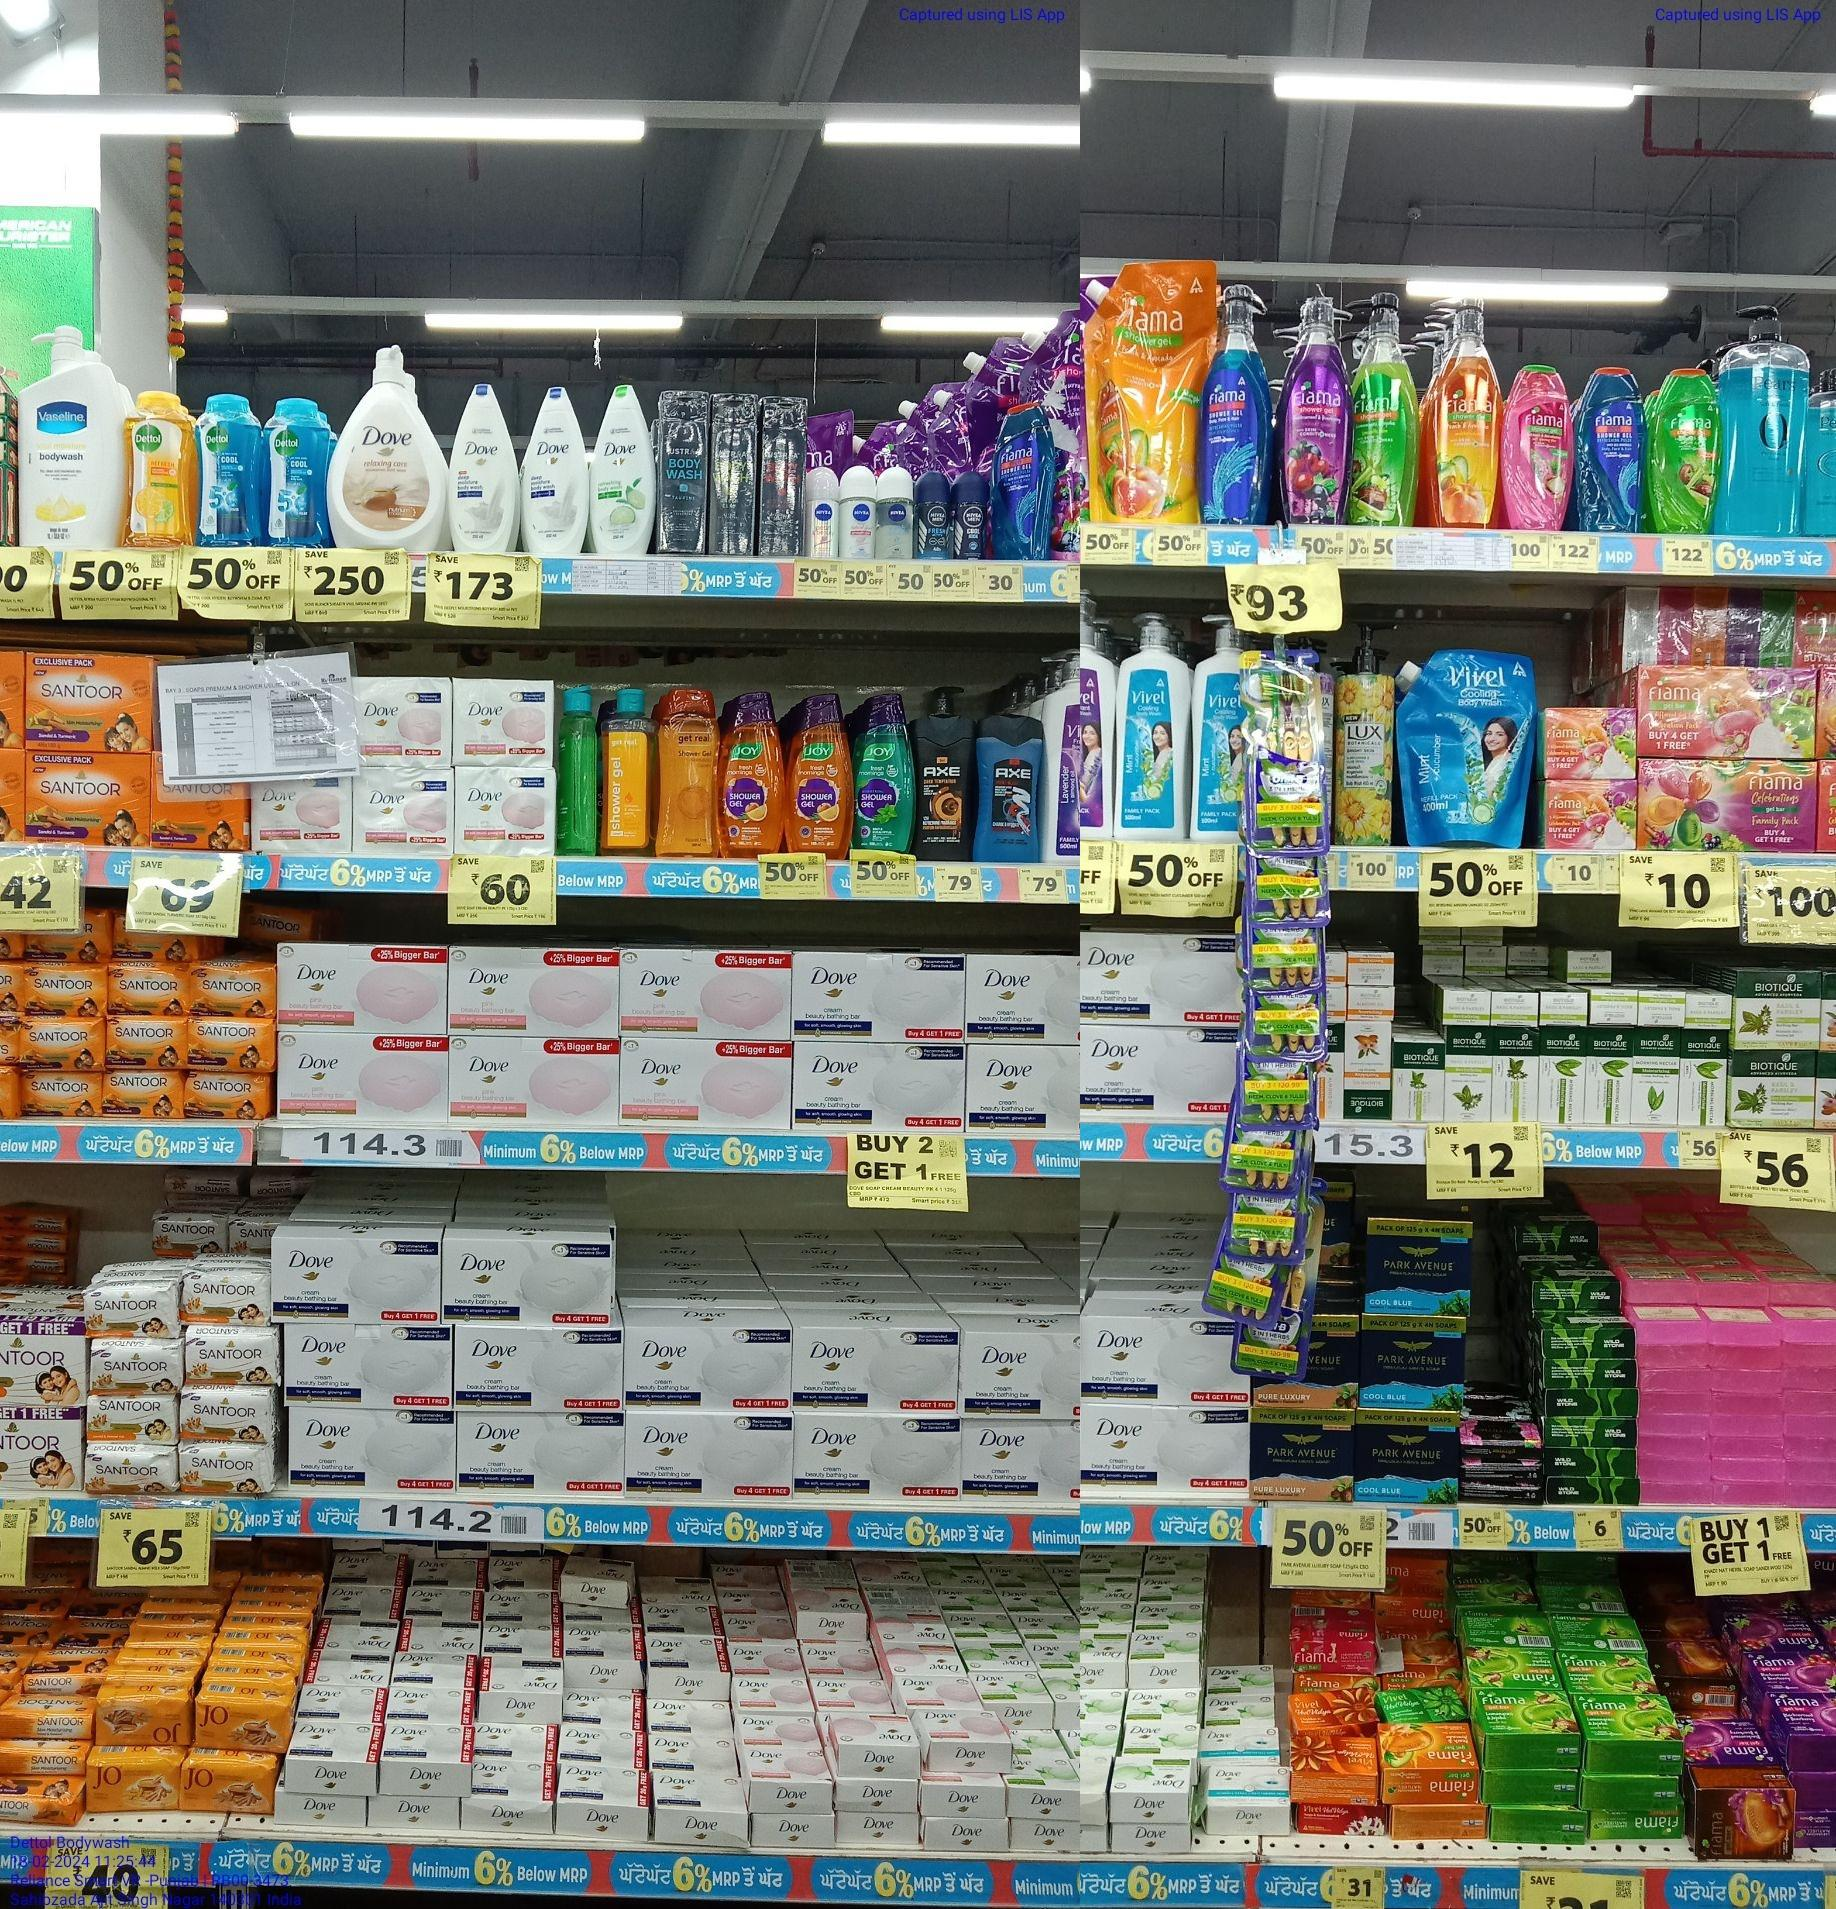Dettol_Bodywash_Cool: (199, 394, 261, 544), (266, 395, 319, 542)
Dettol_Bodywash_Refresh: (124, 392, 193, 554)
Dove_Deep_Moisture_Body_Wash_250ML: (450, 382, 515, 554), (525, 387, 588, 554)
Dove_Refreshing_Body_Wash_250ML: (593, 378, 660, 554)
Fiama_Shower_Gel_Lemongrass_and_Jojoba_250ML: (1652, 366, 1717, 533)
Fiama_Shower_Gel_Patchouli_and_Macadamia_250ML: (1502, 366, 1572, 532)
Get_Real_Shower_Gel_Moisturising_Glycerin_300ML: (656, 689, 721, 857)
Joy_Shower_Gel_Mandarin_and_Lemongrass_250ML: (782, 695, 852, 856), (725, 692, 779, 856)
Joy_Shower_Gel_Mint_and_Eucalyptus_250ML: (854, 690, 914, 851)
